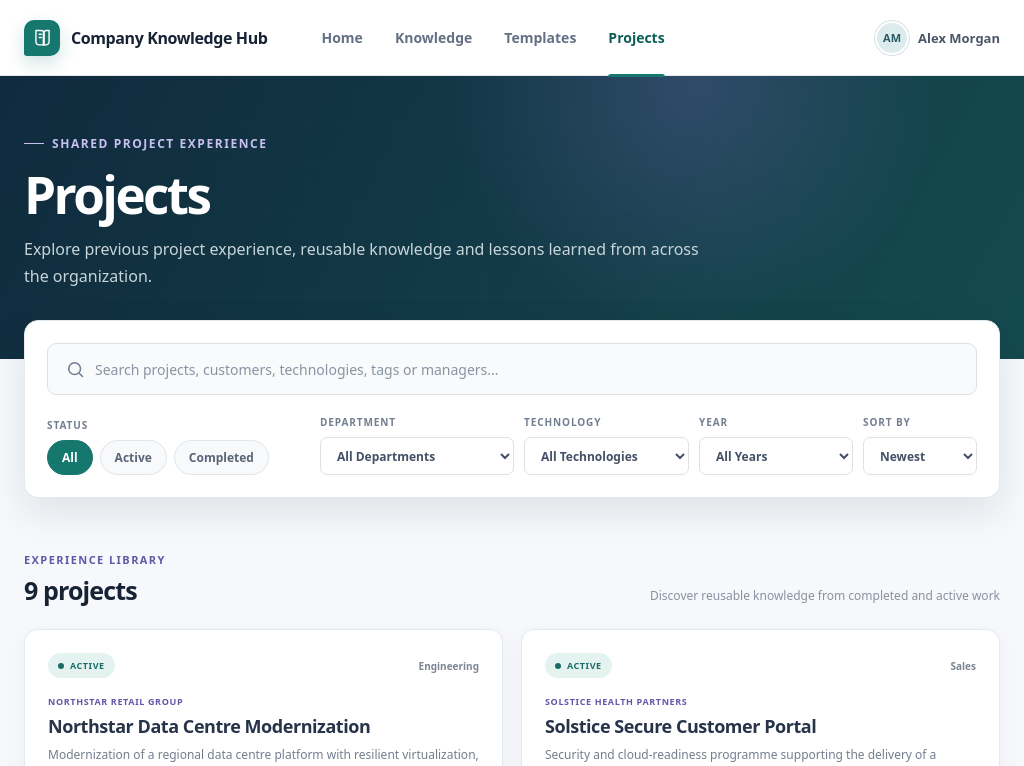
Test: ProjectsPage › searches names, customers, technologies, tags, and project managers
Replace the text in the search field labelled "Search projects" with "Aisha Rahman" at (536, 369), box 95,344 -> 976,394
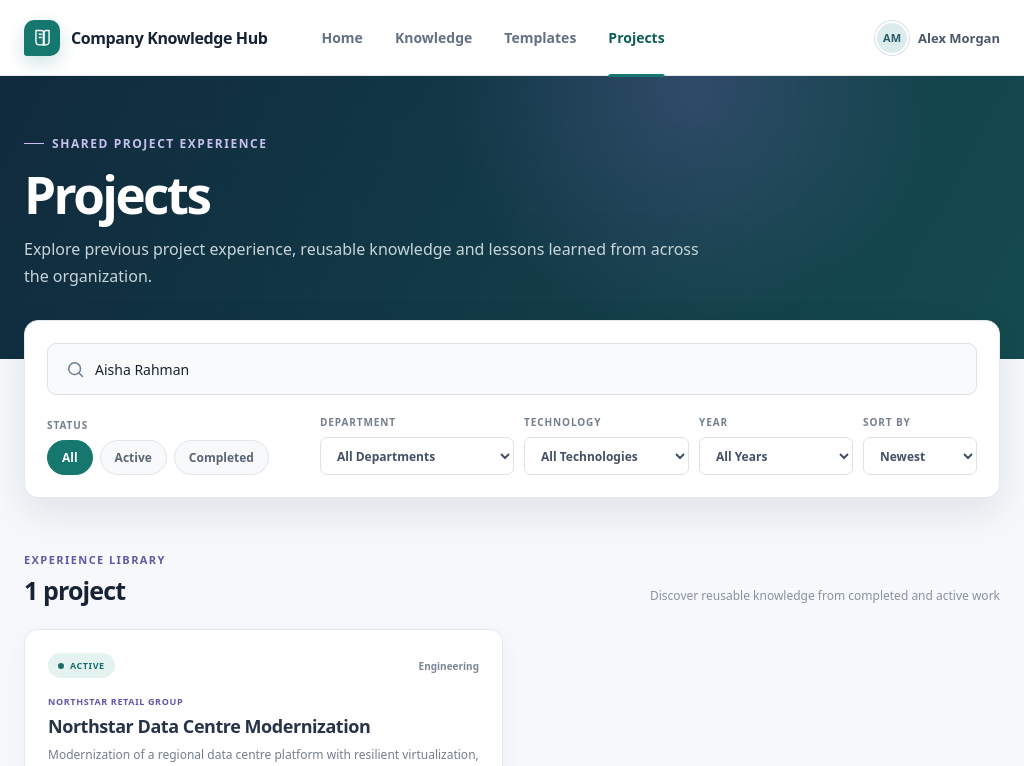
Expected: the heading "Northstar Data Centre Modernization" is shown, 48,714 -> 370,738
Now the heading "1 project" is shown, box 24,573 -> 125,607
